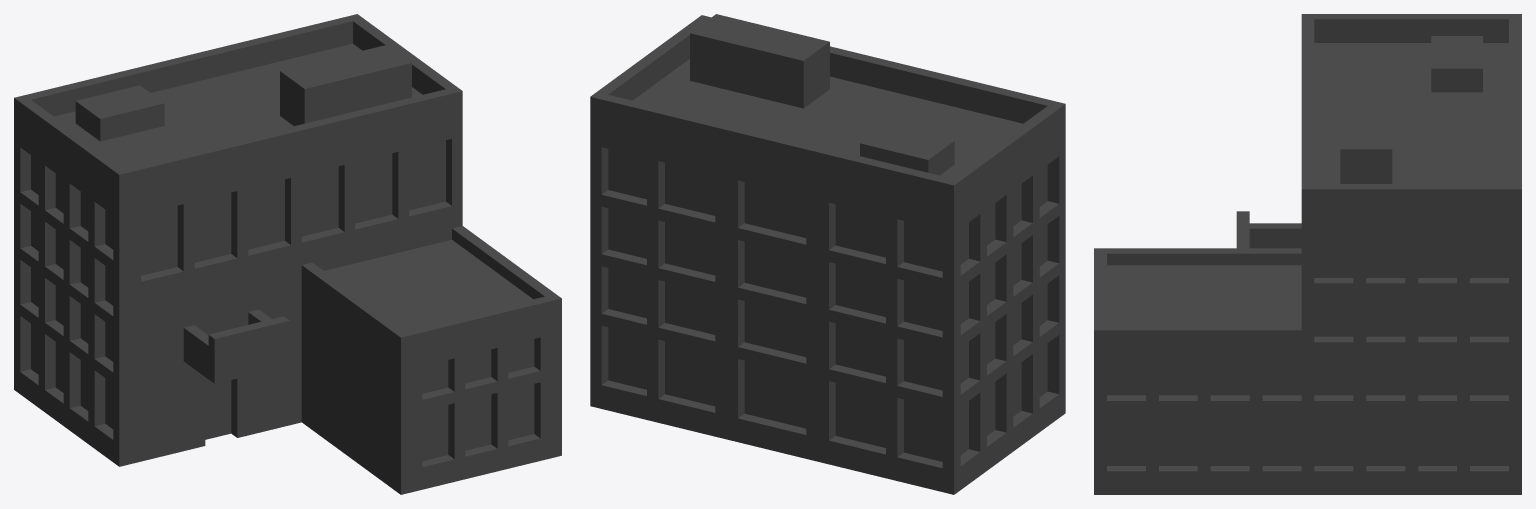
The model's file is building4_grayscale.obj.
The picture shows the model from 3 angles, left to right: view 1: azimuth 30°, elevation 25°; view 2: azimuth 150°, elevation 25°; view 3: azimuth 270°, elevation 25°; orthographic projection. The views are drawn at different scales.
Visible parts, largest first — view 1: building4_grayscale; view 2: building4_grayscale; view 3: building4_grayscale.
Part boxes in pixels (x1,y1,x2,y2): building4_grayscale: (14,14,561,494); building4_grayscale: (590,14,1065,494); building4_grayscale: (1094,14,1521,494).
Bounding box in the file's own units: 32 × 28 × 33.
Materials: 1 (1 with a texture image).
